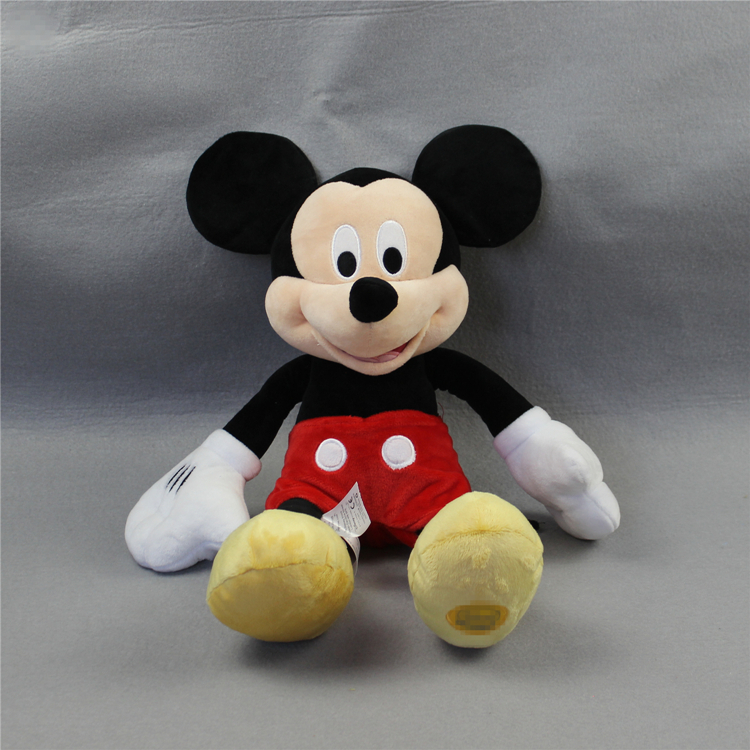Mickey: (180, 121, 543, 376)
